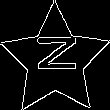N_W: (31, 40, 80, 81)
